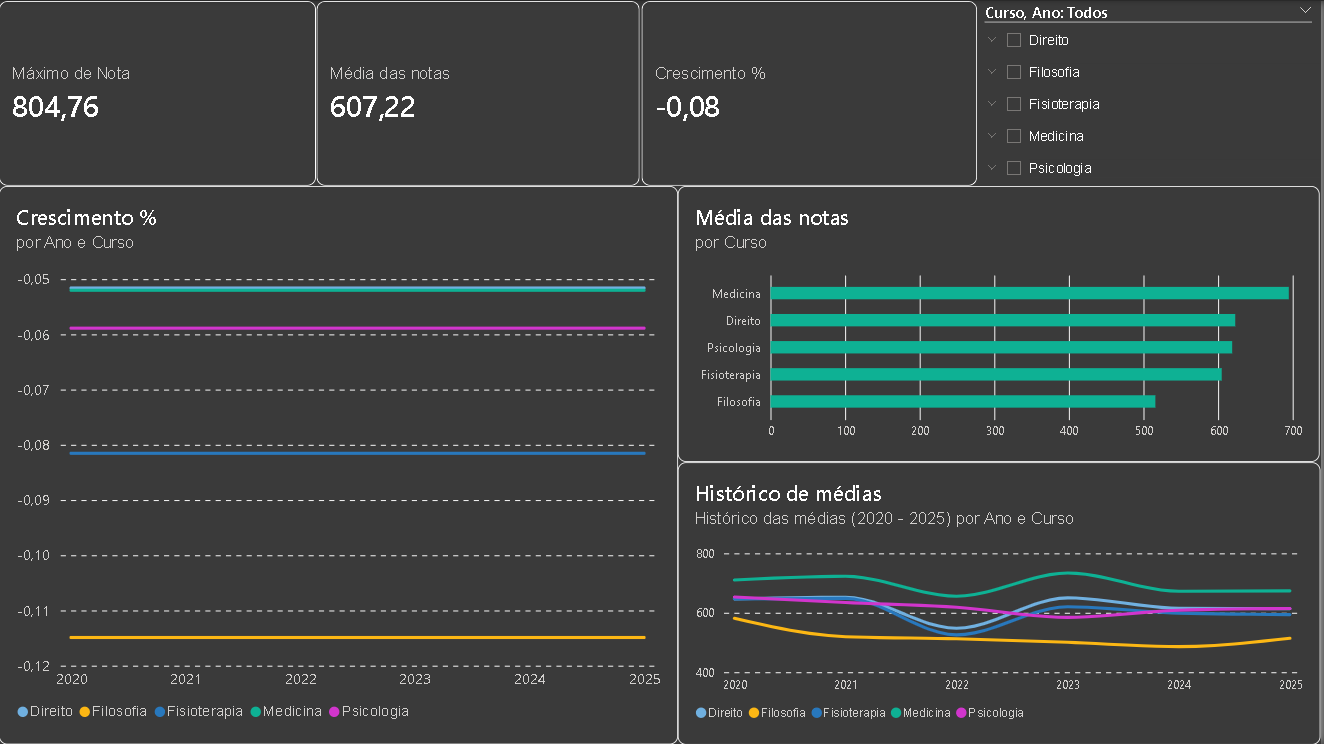

Layout of this report page (visuals, bound fields, positions):
{"tool":"powerbi","page":{"name":"Página 1","canvas":[1280,720],"ordinal":0},"visuals":[{"type":"lineChart","title":"Histórico de médias","fields":{"Category":["Página1.Ano"],"Series":["Página1.Curso"],"Y":["Página1.Media_Notas"]},"box":[657.9,446.9,622.1,273.5],"z":0},{"type":"barChart","fields":{"Category":["Página1.Curso"],"Y":["Página1.Media_Notas"]},"box":[657.8,179.3,621.7,267.5],"z":1000},{"type":"cardVisual","fields":{"Data":["Max(Página1.Nota)"]},"box":[0,0,308,179.3],"z":2000},{"type":"slicer","fields":{"Values":["Página1.Curso","Página1.Ano"]},"box":[947,0,332.5,179.3],"z":3000},{"type":"cardVisual","fields":{"Data":["Página1.Media_Notas"]},"box":[308,0,313.7,179.3],"z":4000},{"type":"cardVisual","fields":{"Data":["Página1.Crescimento %"]},"box":[621.7,0,325.3,179.3],"z":5000},{"type":"lineChart","fields":{"Category":["Página1.Ano"],"Series":["Página1.Curso"],"Y":["Página1.Crescimento %"]},"box":[0,179.3,657.8,540.7],"z":6000}]}

Visuals, with their boxes in screenshot pixels (x1, y1, x2, y2), scaled from the page's 1280x720 canvas onto the 1324x744 screenshot:
"Histórico de médias" lineChart: l=681, t=462, r=1323, b=743
barChart - Página1.Curso x Página1.Media_Notas: l=680, t=185, r=1323, b=462
cardVisual - Max(Página1.Nota): l=0, t=0, r=319, b=185
slicer - Página1.Curso x Página1.Ano: l=980, t=0, r=1323, b=185
cardVisual - Página1.Media_Notas: l=319, t=0, r=643, b=185
cardVisual - Página1.Crescimento %: l=643, t=0, r=980, b=185
lineChart - Página1.Ano x Página1.Curso: l=0, t=185, r=680, b=743
